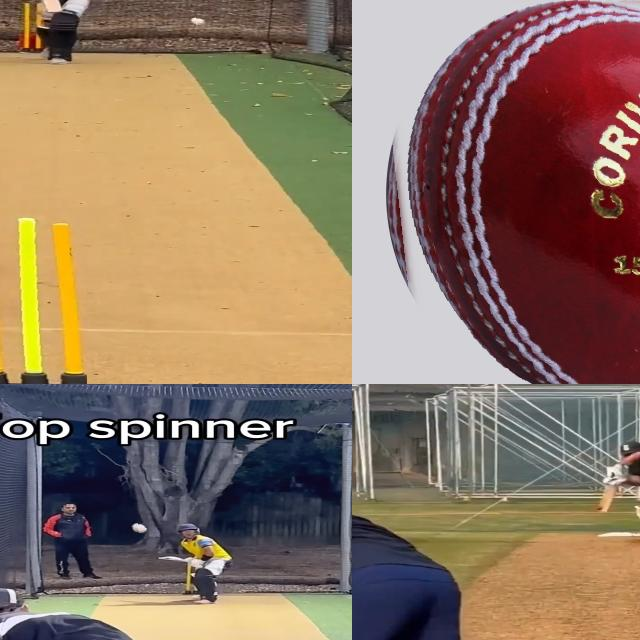Cricket ball: (374, 0, 640, 384), (189, 16, 207, 28), (132, 522, 148, 533)
Stumps: (0, 215, 87, 384)
